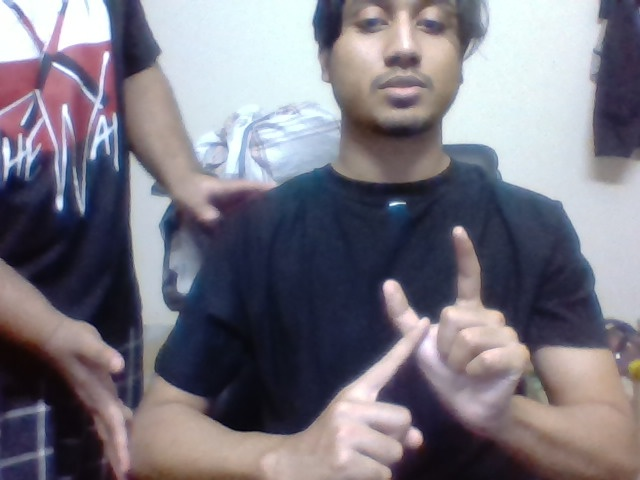Y: (359, 218, 493, 391)
